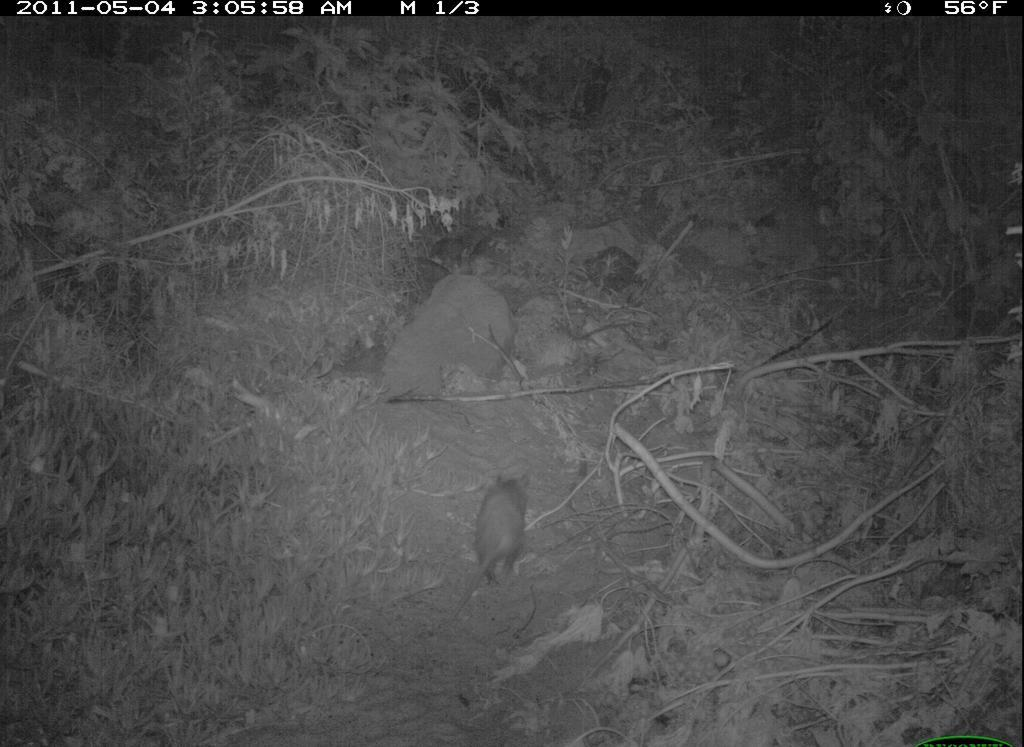opossum: (439, 473, 542, 635)
